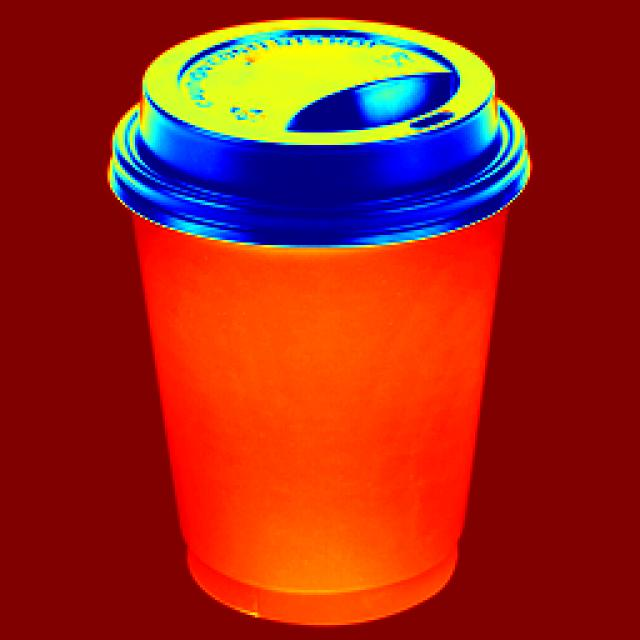Paper Cups: (107, 12, 534, 632)
